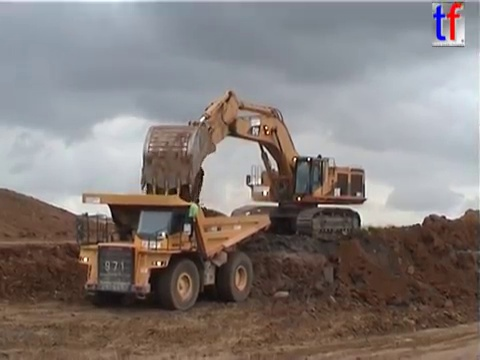excavator: (137, 87, 370, 243)
truck: (73, 190, 273, 312)
worker: (186, 196, 204, 244)
